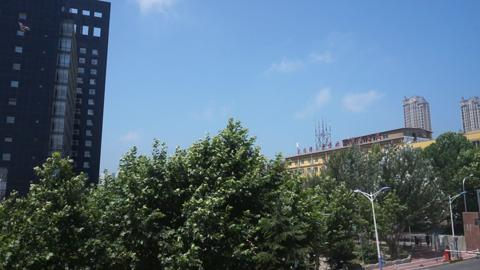UAV: (18, 22, 30, 32)
